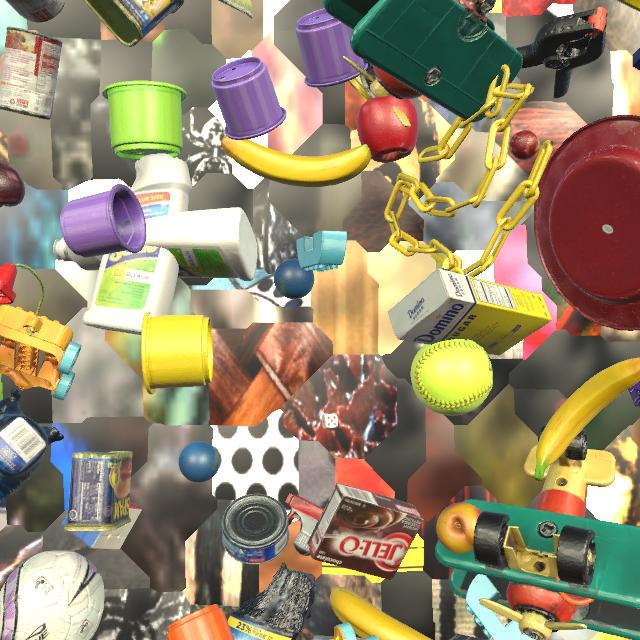ycb_004_sugar_box: (388, 268, 552, 356), (616, 0, 640, 12)
ycb_005_tomato_soup_can: (0, 27, 63, 120), (6, 0, 66, 22), (360, 60, 375, 98)
ycb_007_tuna_fish_can: (221, 494, 289, 565)
ycb_008_pudding_box: (307, 483, 424, 580), (449, 633, 486, 640)
ycb_010_potted_meat_can: (64, 451, 132, 532), (84, 0, 184, 47)
ycb_011_banana: (534, 357, 640, 481), (221, 135, 371, 187), (330, 587, 432, 640)
ycb_013_apple: (357, 96, 418, 163)
ycb_015_peach: (436, 502, 482, 554)
ycb_018_plum: (0, 162, 25, 207)
